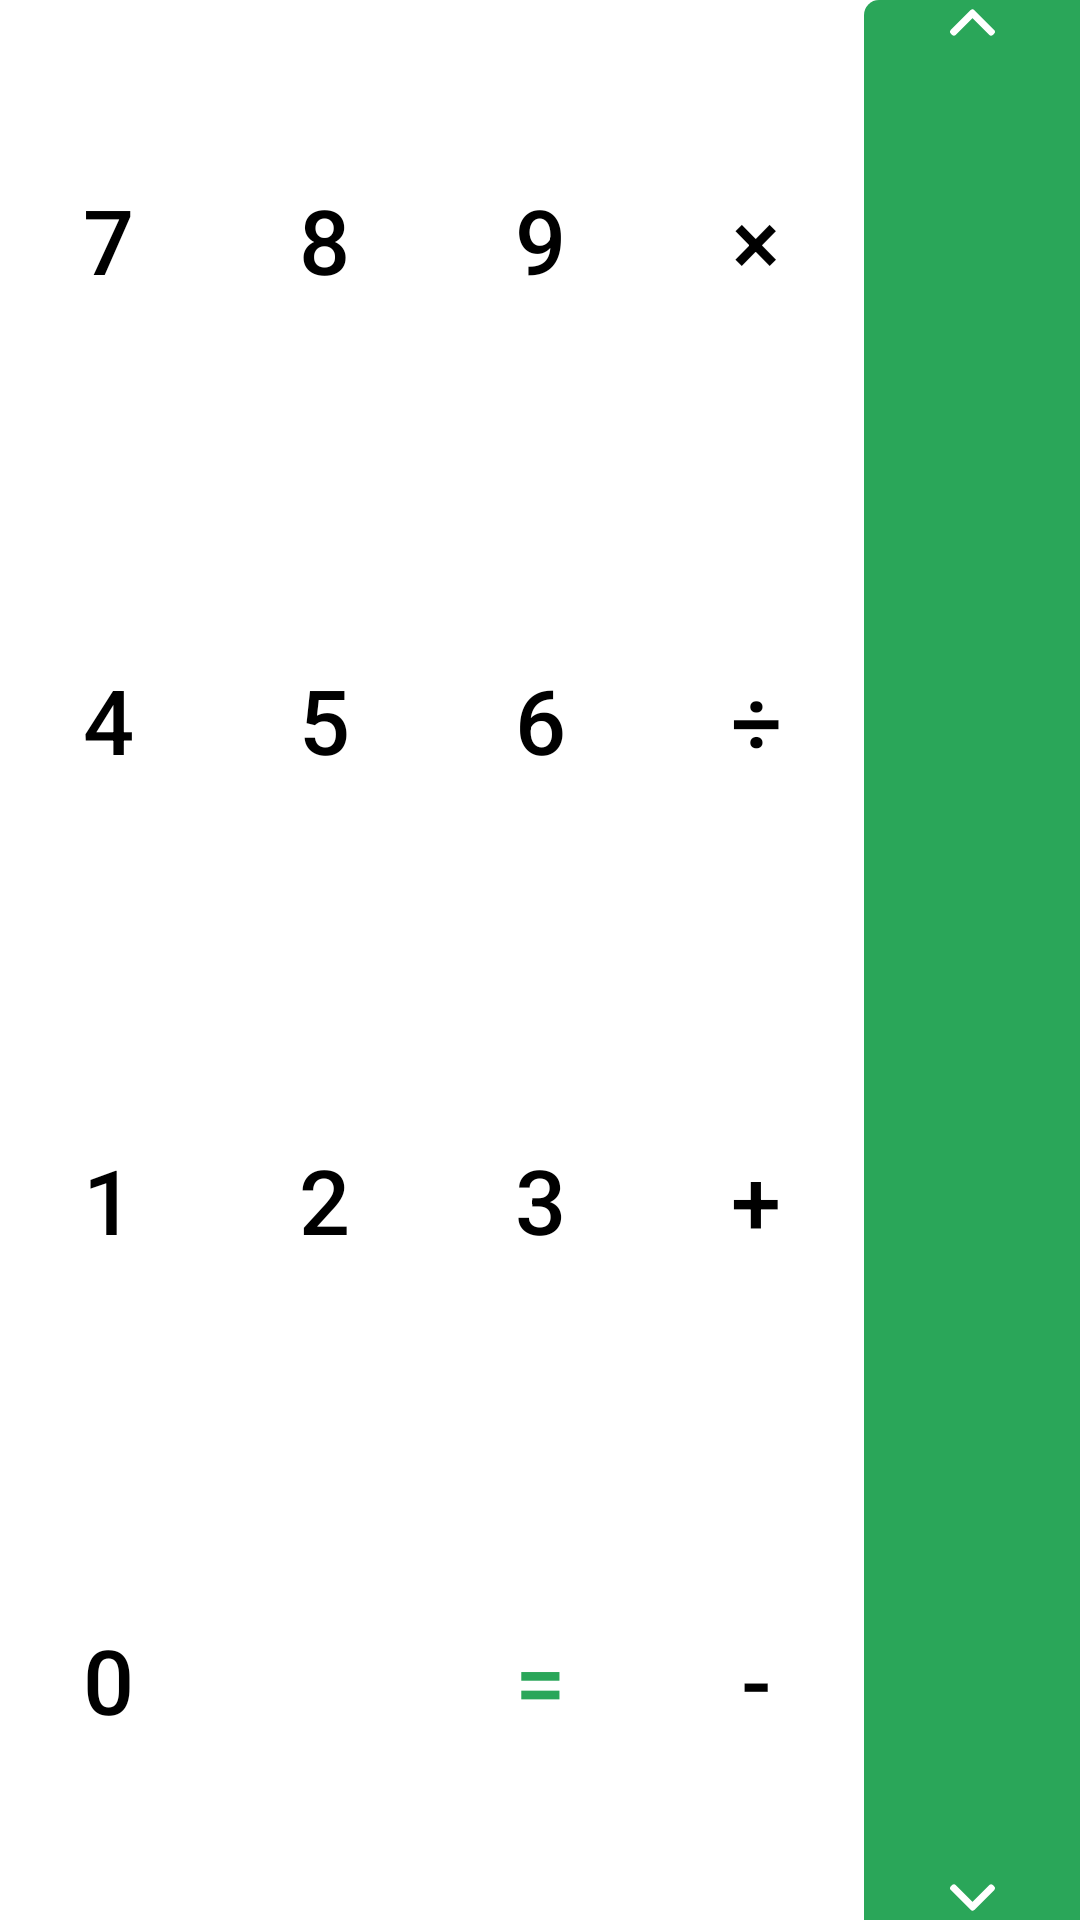

Screen size 1080w x 1920h. Icon name, then its box in pixels as (x1, y1, x2, y2):
arrow down: (950, 1884, 995, 1911)
arrow up: (950, 9, 995, 36)
